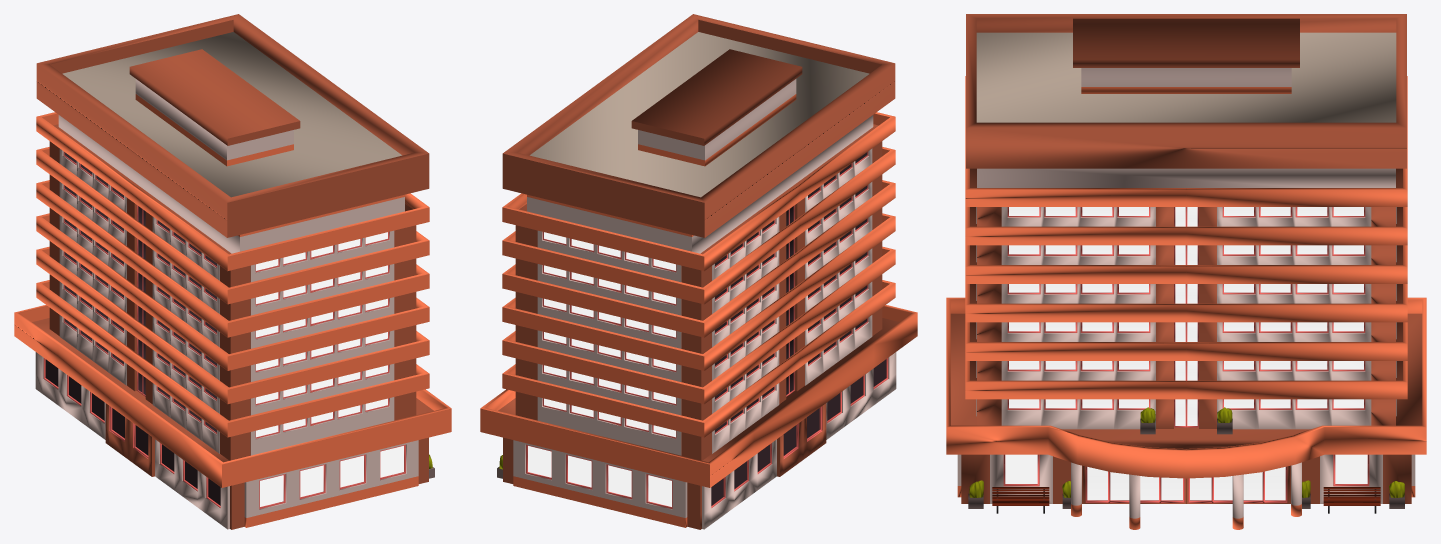
Rendered from edificio1.glb.
The picture shows the model from 3 angles, left to right: view 1: azimuth 30°, elevation 25°; view 2: azimuth 150°, elevation 25°; view 3: azimuth 270°, elevation 25°; orthographic projection. The views are drawn at different scales.
Visible parts, largest first — view 1: PublicBuilding_2_Pack3_0; view 2: PublicBuilding_2_Pack3_0; view 3: PublicBuilding_2_Pack3_0.
Boxes of the visible parts, left/top/right/bottom form: PublicBuilding_2_Pack3_0: left=14, top=14, right=451, bottom=529; PublicBuilding_2_Pack3_0: left=480, top=14, right=917, bottom=529; PublicBuilding_2_Pack3_0: left=946, top=14, right=1426, bottom=529.
Bounding box in the file's own units: 7.51 × 9.1 × 9.92.
2 materials, 1 textured.
